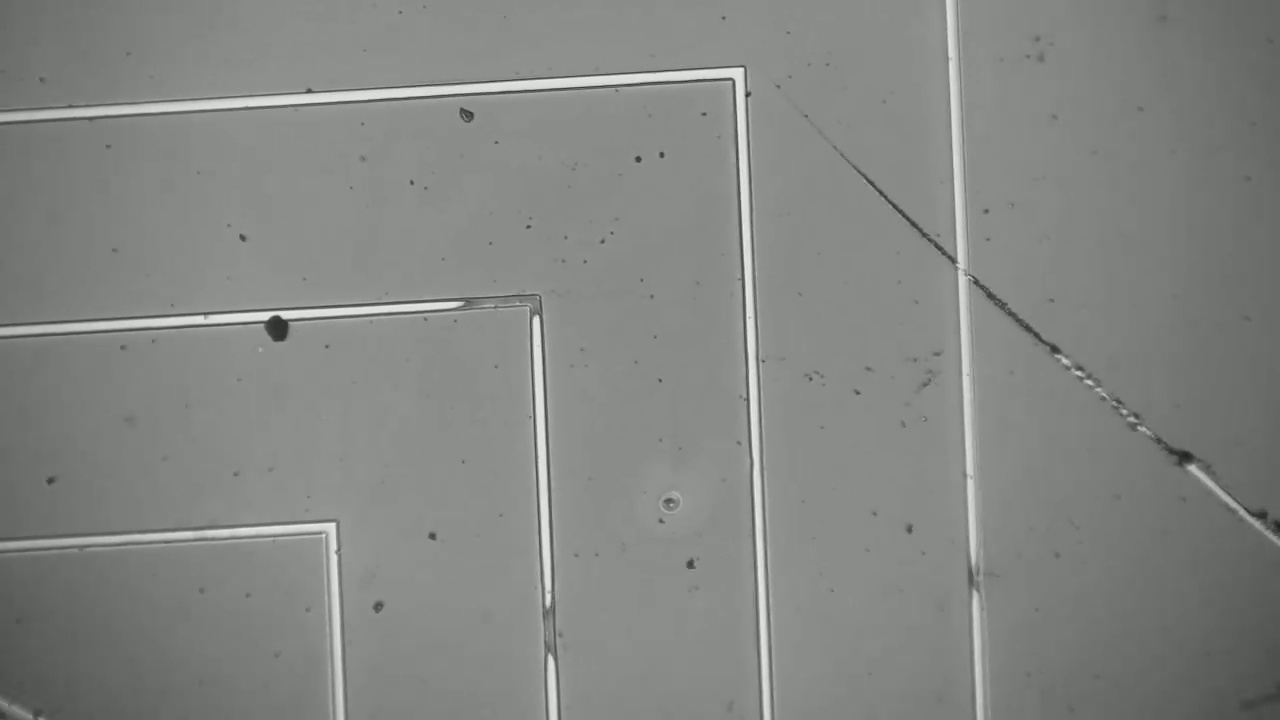edge_bite: (317, 544, 344, 562)
gray_line: (448, 289, 557, 315), (533, 590, 564, 674), (955, 551, 989, 605), (522, 285, 549, 331)
scratch: (791, 109, 1275, 543)
stains_enbedded: (254, 300, 296, 350)
